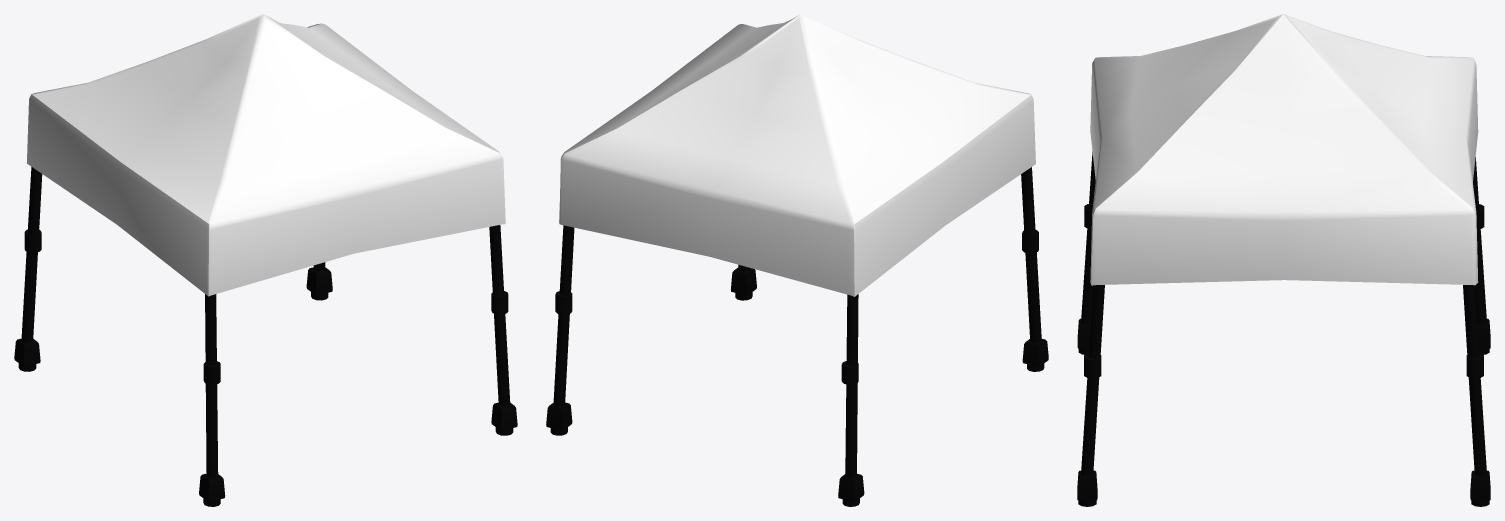
Rendered from WorkShop.fbx.
The picture shows the model from 3 angles, left to right: view 1: azimuth 30°, elevation 25°; view 2: azimuth 150°, elevation 25°; view 3: azimuth 270°, elevation 25°; orthographic projection. The views are drawn at different scales.
Visible parts, largest first — view 1: Object001; view 2: Object001; view 3: Object001.
Part boxes in pixels (x1,y1,x2,y2): Object001: (14, 14, 517, 506); Object001: (546, 14, 1048, 506); Object001: (1077, 14, 1490, 506).
Bounding box in the file's own units: 15199 × 18193 × 16563.
